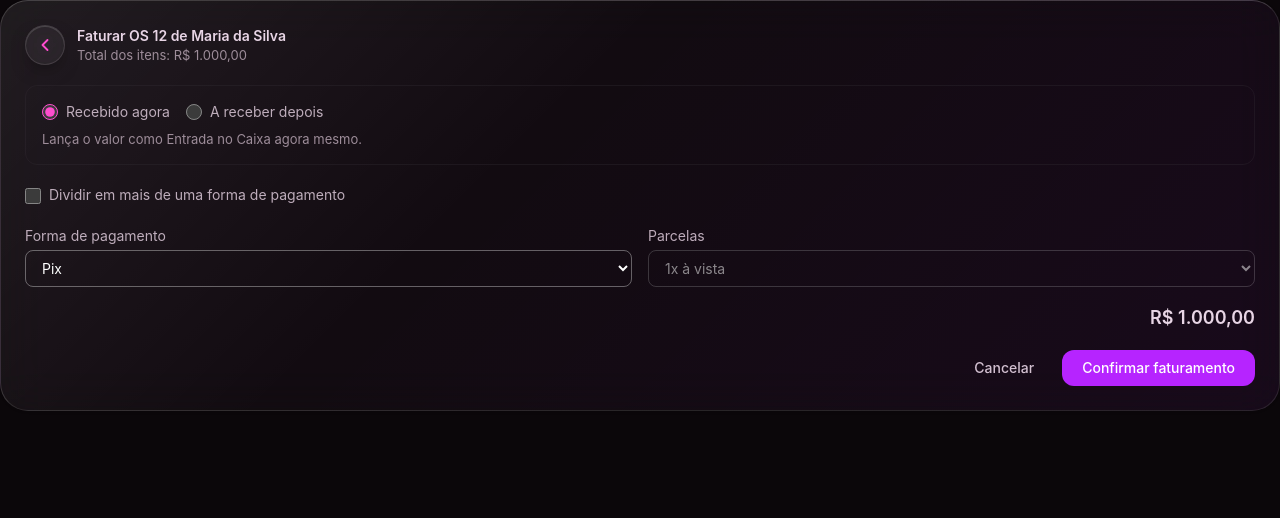
Test: FaturamentoCard — pagamento dividido › o juro incide só sobre a parte do cartão, e a soma das formas continua sendo o total dos itens
The width and height of the screenshot is (1280, 518).
Click the checkbox labelled "Dividir em mais de uma forma de pagamento": (33, 196) [25,188,41,204]
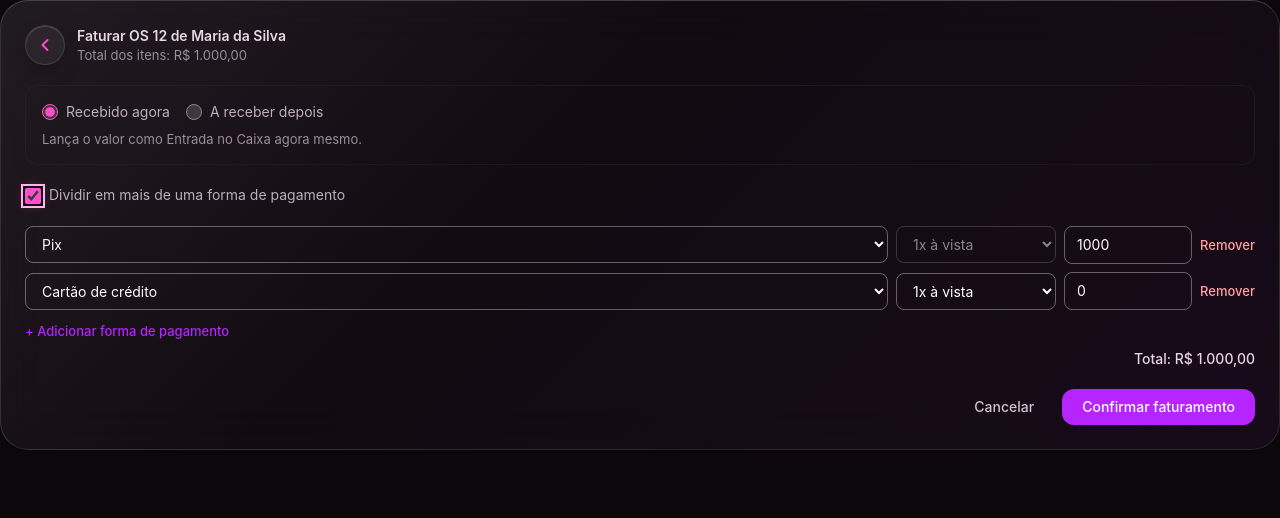
Replace the text in the 1st number field with "500": (1128, 245) [1064,226,1192,264]
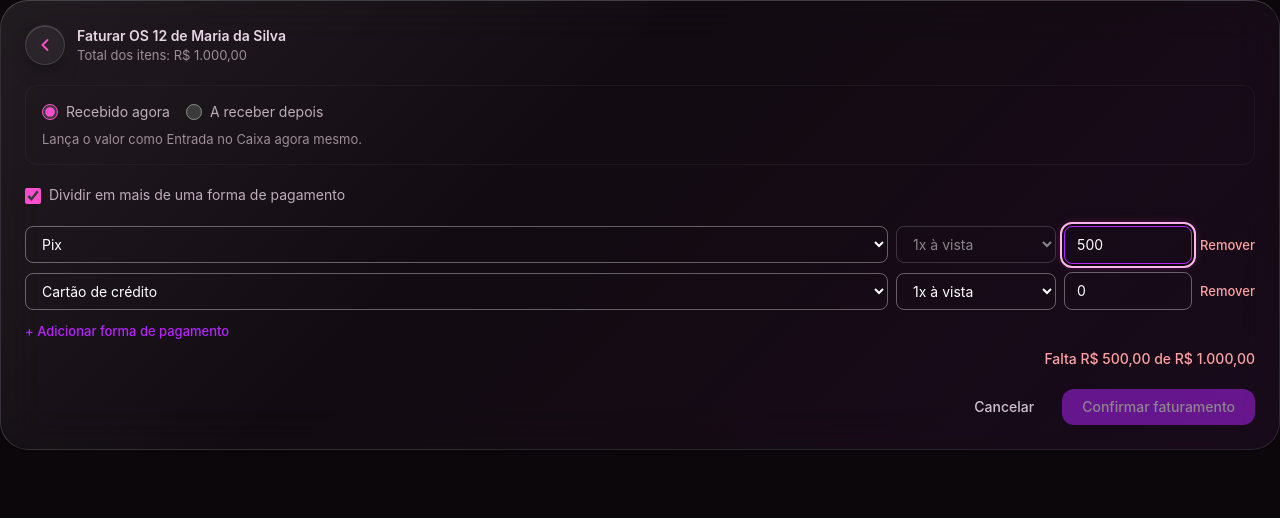
Select "Cartão de crédito" in the 3rd dropdown: (457, 291) [25,273,888,310]
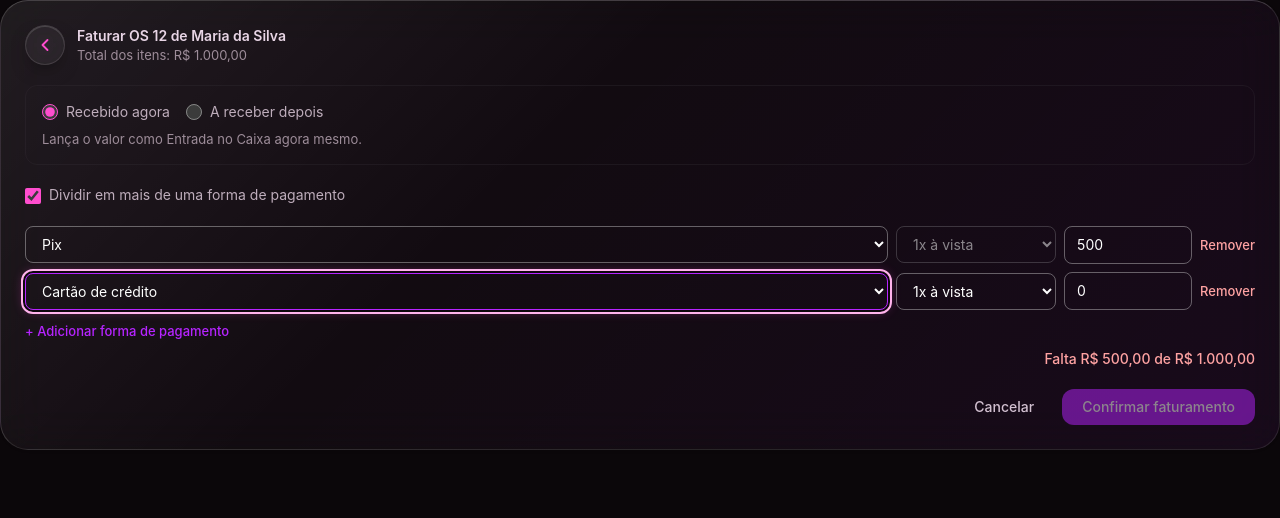
Select "3x (5% juros)" in the dropdown named "Em quantas vezes o cliente passou no cartão": (976, 291) [896,273,1056,310]
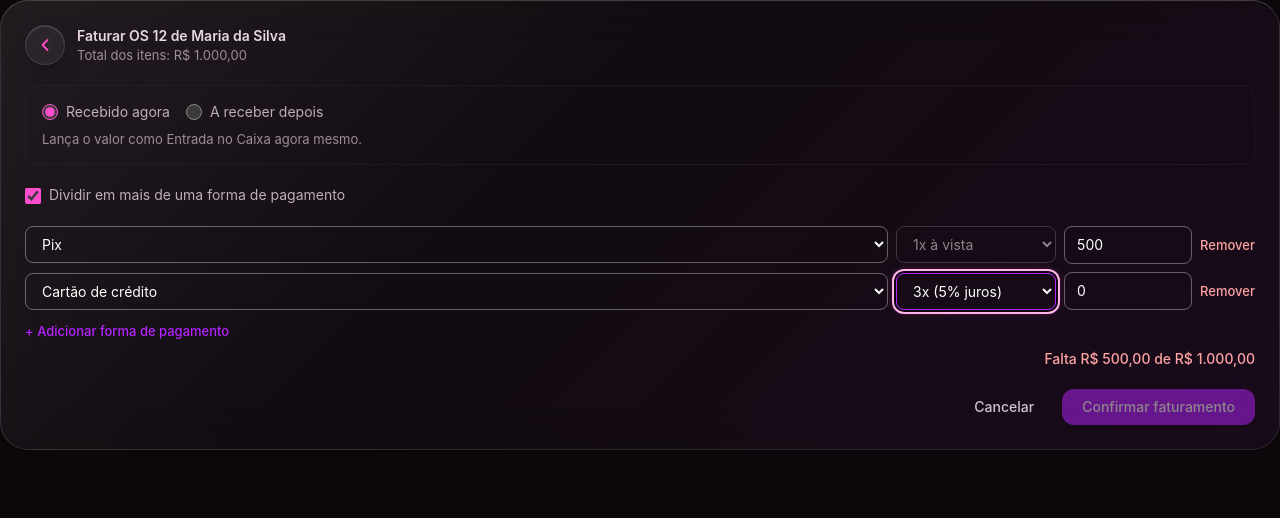
Replace the text in the 2nd number field with "500": (1128, 291) [1064,272,1192,310]
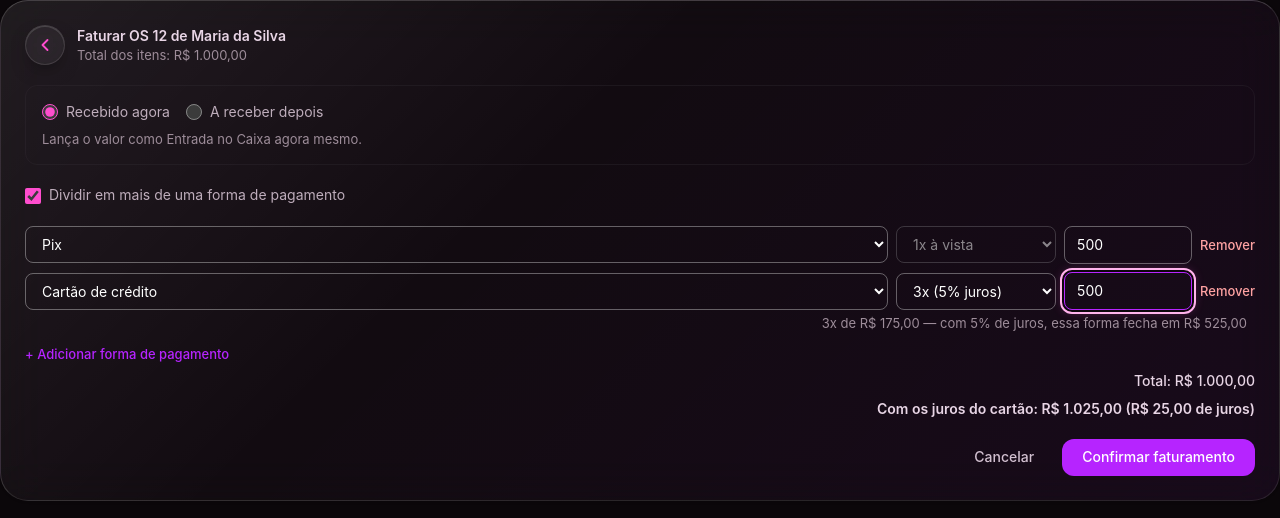
Expected: the button "Confirmar faturamento" is enabled, [1062,439,1255,476]
Expected: the text "Com os juros do cartão: R$ 1.025,00 (R$ 25,00 de juros)" is shown, [877,400,1255,417]
